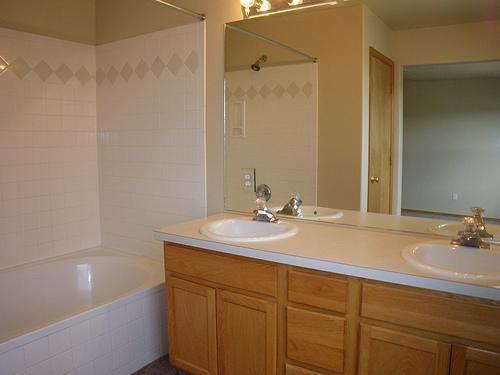Lavamanos: (200, 185, 296, 258), (408, 218, 499, 287)
